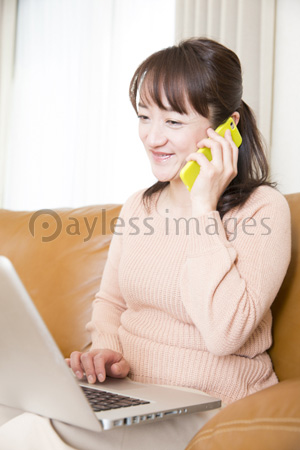phone: (174, 113, 244, 189)
talk: (137, 101, 250, 202)
